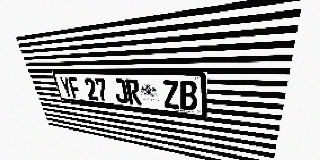2: (83, 78, 99, 101)
7: (94, 78, 109, 102)
B: (179, 80, 198, 111)
F: (67, 77, 82, 99)
J: (112, 78, 129, 104)
R: (125, 79, 142, 105)
Y: (59, 77, 73, 98)
Z: (162, 80, 180, 109)
